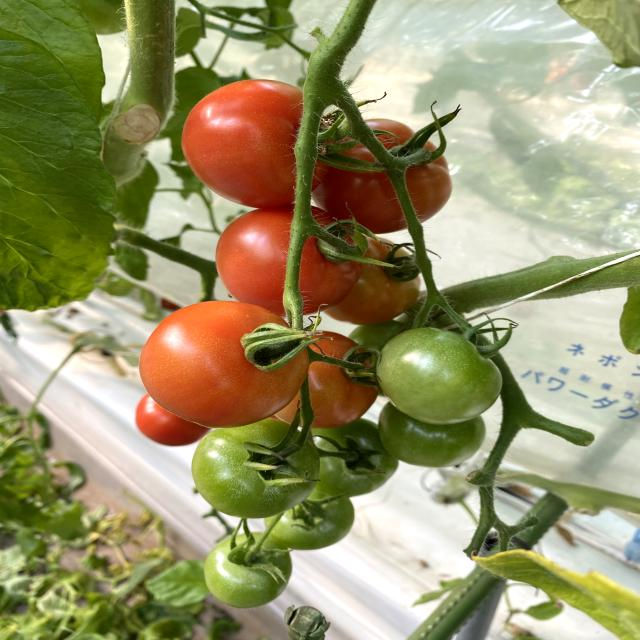ripe0: (190, 423, 319, 517), (381, 329, 503, 425), (204, 533, 292, 606)
ripe2: (141, 298, 303, 426), (180, 78, 309, 209), (215, 206, 349, 314)
